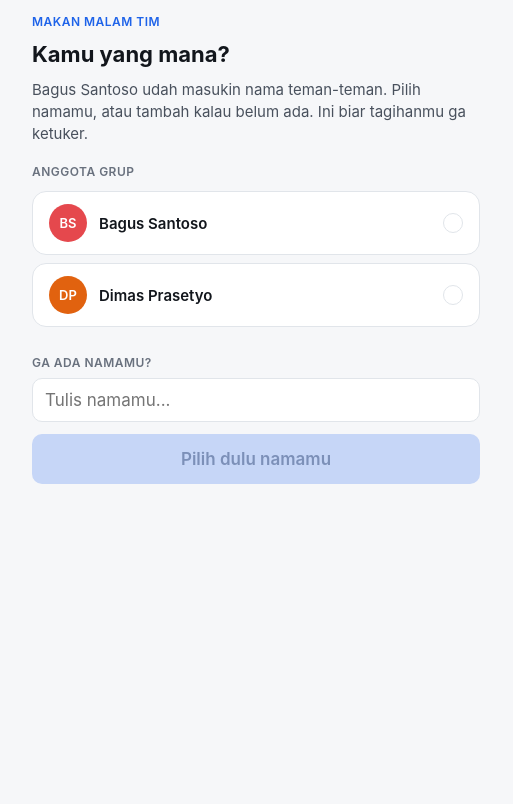
Test: ClaimScreen — four mockup states › state 2: klaim berjalan, reached after picking an identity
The width and height of the screenshot is (513, 804).
Expected: the heading "Kamu yang mana?" is shown, x1=32 y1=41 x2=230 y2=67
Click the text "Bagus Santoso".
click(153, 223)  # box x1=99 y1=214 x2=207 y2=233
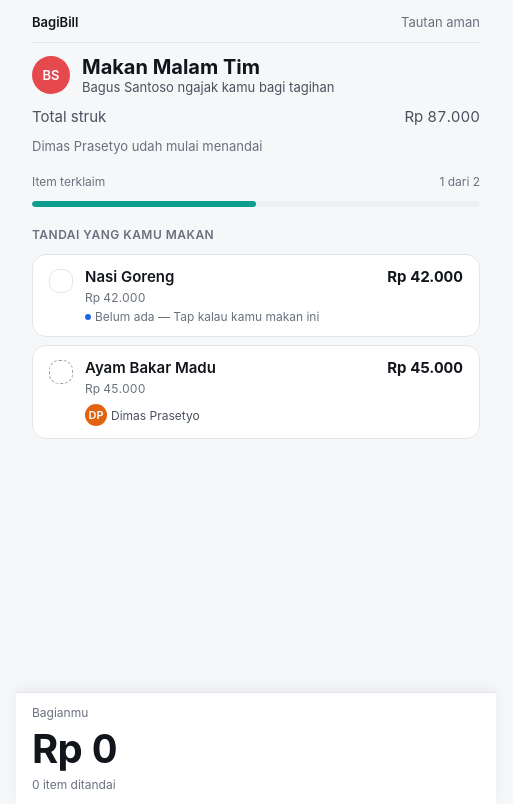
Expected: the text "Nasi Goreng" is shown, x1=85 y1=267 x2=174 y2=286
